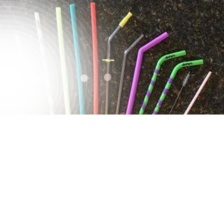drinking_straw: (123, 29, 171, 114), (30, 9, 62, 114), (85, 0, 103, 115), (181, 67, 215, 115)
